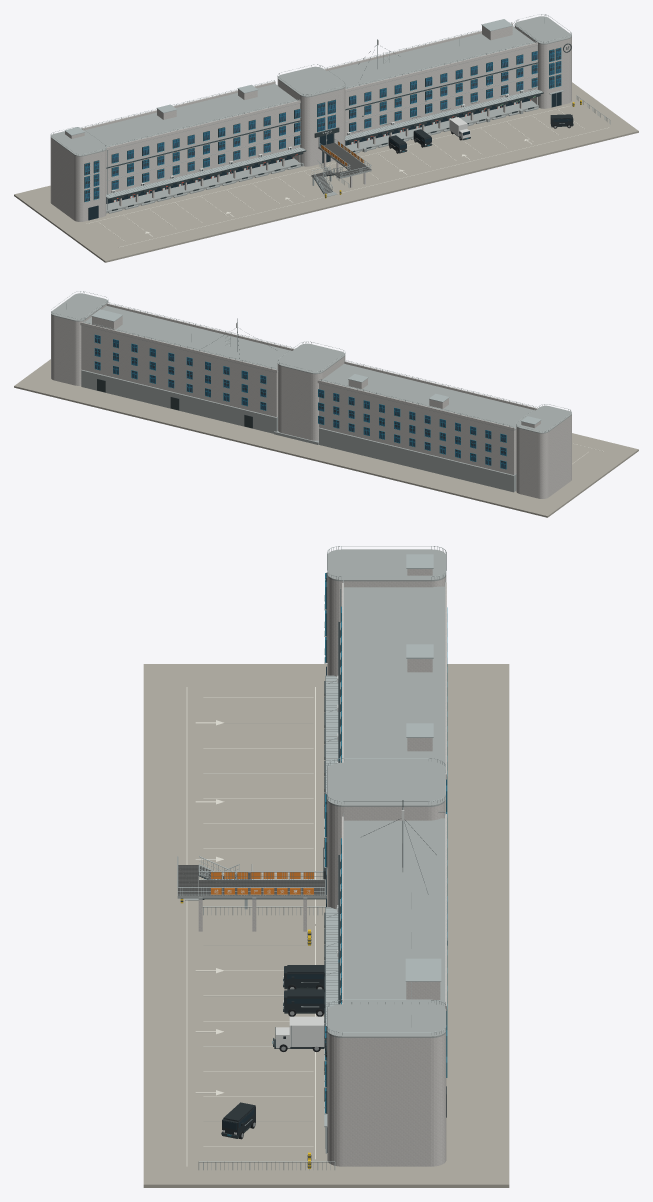
File: logistics-building.glb
3 views of the same model, one above another, from view 1: azimuth 30°, elevation 25°; view 2: azimuth 150°, elevation 25°; view 3: azimuth 270°, elevation 25° (orthographic). The views are drawn at different scales.
Visible parts, largest first — view 1: Site / foundation, LeftWing / upper storeys, Main / upper three storeys, LeftWing / roof, Main / roof surface, LeftWing / outer rounded tower, Center / rounded entrance tower, Right / rounded corner tower, LeftWing / loading platform, Center / roof, Main / loading platform, LeftWing / parapet (+25 smaller); view 2: Site / foundation, Main / upper three storeys, LeftWing / upper storeys, LeftWing / roof, Main / roof surface, LeftWing / outer rounded tower, LeftWing / hall rear wall, Main / loading hall back wall, Center / rounded entrance tower, Right / rounded corner tower, LeftWing / rear glazing, LeftWing / rear frames (+12 smaller); view 3: Site / foundation, Main / roof surface, LeftWing / roof, Right / rounded corner tower, Center / roof, Right / roof, LeftWing / outer tower roof, Center / rounded entrance tower, LeftWing / outer rounded tower, Bridge / diamond walkway, Loading / canopy, LeftWing / canopy (+6 smaller).
Part boxes in pixels (left/top/right/bottom): Site / foundation: left=14, top=82, right=638, bottom=262; LeftWing / upper storeys: left=106, top=103, right=299, bottom=194; Main / upper three storeys: left=345, top=45, right=537, bottom=135; LeftWing / roof: left=84, top=84, right=299, bottom=150; Main / roof surface: left=327, top=26, right=537, bottom=91; LeftWing / outer rounded tower: left=50, top=137, right=106, bottom=221; Center / rounded entrance tower: left=277, top=79, right=345, bottom=166; Right / rounded corner tower: left=514, top=26, right=571, bottom=108; LeftWing / loading platform: left=106, top=158, right=301, bottom=213; Center / roof: left=277, top=66, right=345, bottom=97; Main / loading platform: left=345, top=100, right=538, bottom=152; LeftWing / parapet: left=81, top=81, right=300, bottom=150; Site / foundation: left=14, top=359, right=638, bottom=517; Main / upper three storeys: left=81, top=325, right=277, bottom=416; LeftWing / upper storeys: left=319, top=383, right=516, bottom=474; LeftWing / roof: left=318, top=363, right=534, bottom=430; Main / roof surface: left=82, top=306, right=291, bottom=372; LeftWing / outer rounded tower: left=516, top=415, right=571, bottom=498; LeftWing / hall rear wall: left=319, top=427, right=516, bottom=492; Main / loading hall back wall: left=81, top=370, right=277, bottom=433; Center / rounded entrance tower: left=277, top=356, right=345, bottom=440; Right / rounded corner tower: left=51, top=302, right=108, bottom=385; LeftWing / rear glazing: left=318, top=390, right=505, bottom=468; LeftWing / rear frames: left=318, top=389, right=506, bottom=469; Site / foundation: left=143, top=664, right=509, bottom=1187; Main / roof surface: left=344, top=818, right=444, bottom=1007; LeftWing / roof: left=344, top=586, right=446, bottom=779; Right / rounded corner tower: left=327, top=1032, right=446, bottom=1166; Center / roof: left=327, top=762, right=445, bottom=806; Right / roof: left=327, top=1004, right=446, bottom=1037; LeftWing / outer tower roof: left=327, top=549, right=446, bottom=581; Center / rounded entrance tower: left=327, top=801, right=445, bottom=909; LeftWing / outer rounded tower: left=327, top=576, right=446, bottom=676; Bridge / diamond walkway: left=199, top=880, right=326, bottom=895; Loading / canopy: left=325, top=907, right=338, bottom=1025; LeftWing / canopy: left=325, top=675, right=338, bottom=868.
Size of the model in its own units: 145 by 25.43 by 43.
19 materials, 3 textured.
